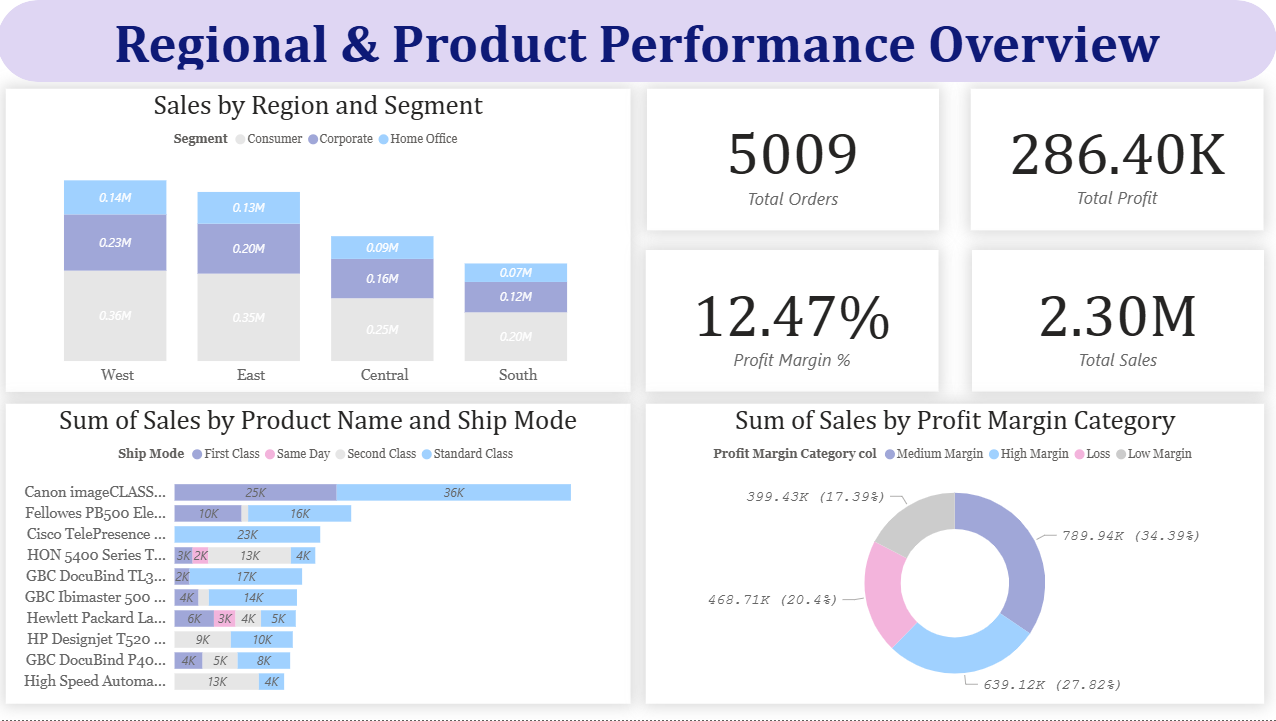

This screenshot's page, from the dashboard's own definition file:
{"tool":"powerbi","page":{"name":"Page 2","canvas":[1280,720],"ordinal":1},"visuals":[{"type":"columnChart","title":"Sales by Region and Segment","fields":{"Category":["Sample - Superstore.Region"],"Y":["Sum(Sample - Superstore.Sales)"],"Series":["Sample - Superstore.Segment"]},"box":[9.3,88.4,624.4,303.5],"z":0},{"type":"barChart","fields":{"Category":["Sample - Superstore.Product Name"],"Y":["Sum(Sample - Superstore.Sales)"],"Series":["Sample - Superstore.Ship Mode"]},"box":[9.3,403.5,624.4,300],"z":1000},{"type":"card","fields":{"Values":["Sample - Superstore.Total Orders"]},"box":[650,88.4,291.9,141.9],"z":2000},{"type":"card","fields":{"Values":["Sample - Superstore.Total Profit"]},"box":[973.8,88.8,292.5,141.2],"z":3000},{"type":"card","fields":{"Values":["Sample - Superstore.Profit Margin %"]},"box":[648.8,250,293,141.9],"z":4000},{"type":"card","fields":{"Values":["Sample - Superstore.Total Sales"]},"box":[975.6,250,291.9,141.9],"z":5000},{"type":"donutChart","title":"Sum of Sales by Profit Margin Category ","fields":{"Category":["Sample - Superstore.Profit Margin Category col"],"Y":["Sum(Sample - Superstore.Sales)"]},"box":[648.8,403.5,618.6,300],"z":6000},{"type":"shape","box":[0,0,1280,82],"z":6001}]}

Visuals, with their boxes in screenshot pixels (x1, y1, x2, y2), scaled from the page's 1280x720 canvas onto the 1276x721 screenshot:
"Sales by Region and Segment" columnChart: (x1=9, y1=89, x2=632, y2=392)
barChart - Sample - Superstore.Product Name x Sum(Sample - Superstore.Sales): (x1=9, y1=404, x2=632, y2=704)
card - Sample - Superstore.Total Orders: (x1=648, y1=89, x2=939, y2=231)
card - Sample - Superstore.Total Profit: (x1=971, y1=89, x2=1262, y2=230)
card - Sample - Superstore.Profit Margin %: (x1=647, y1=250, x2=939, y2=392)
card - Sample - Superstore.Total Sales: (x1=973, y1=250, x2=1264, y2=392)
"Sum of Sales by Profit Margin Category " donutChart: (x1=647, y1=404, x2=1263, y2=704)
shape: (x1=0, y1=0, x2=1275, y2=82)
